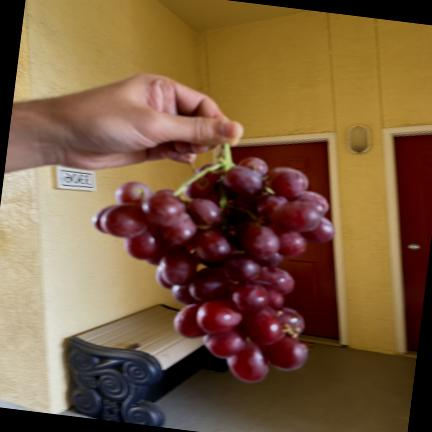grape_cluster: (92, 145, 334, 381)
